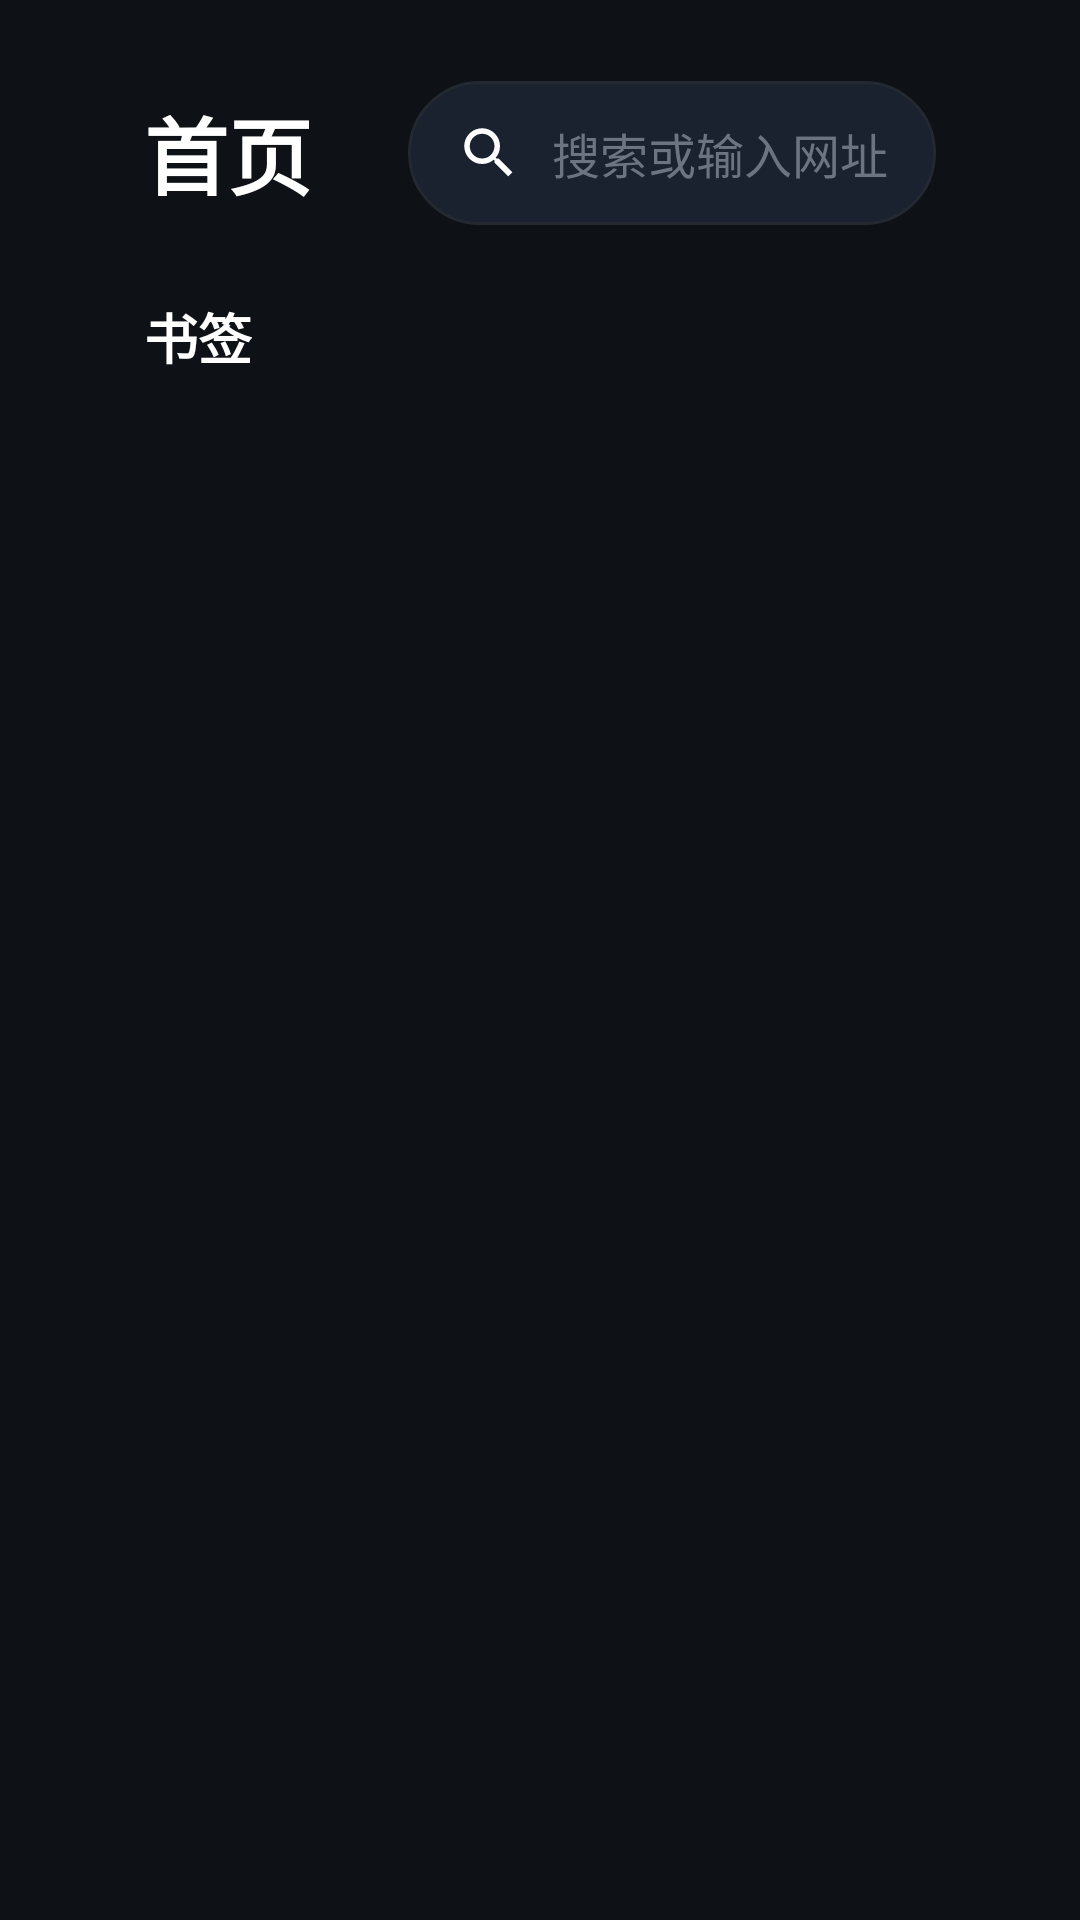

Named icons in this screenshot (1080x1920) and their centers, (x=x, y=y):
search: (x=488, y=152)
